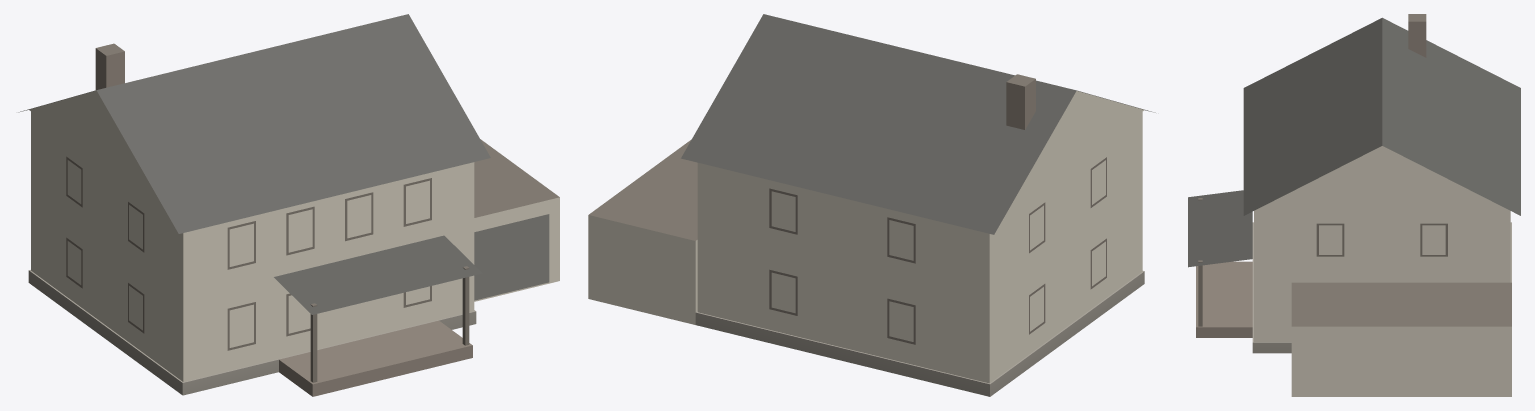
Rendered from house_a.glb.
3 renders of one model, left to right at view 1: azimuth 30°, elevation 25°; view 2: azimuth 150°, elevation 25°; view 3: azimuth 270°, elevation 25°, orthographic. The views are drawn at different scales.
Parts seen in each view (by area): view 1: house_a; view 2: house_a; view 3: house_a.
Part boxes in pixels (left/top/right/bottom): house_a: left=18, top=14, right=559, bottom=396; house_a: left=588, top=14, right=1155, bottom=396; house_a: left=1188, top=14, right=1520, bottom=396.
Size of the model in its own units: 15.35 by 9.6 by 12.85.
